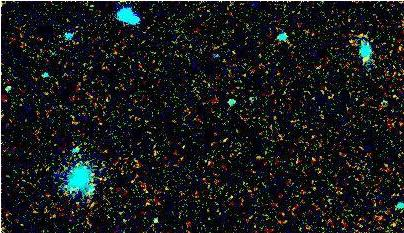star: (139, 136, 169, 166)
